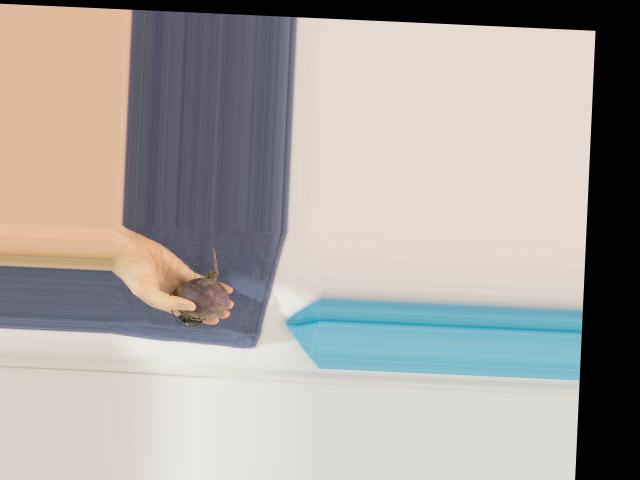beet: (170, 243, 232, 327)
